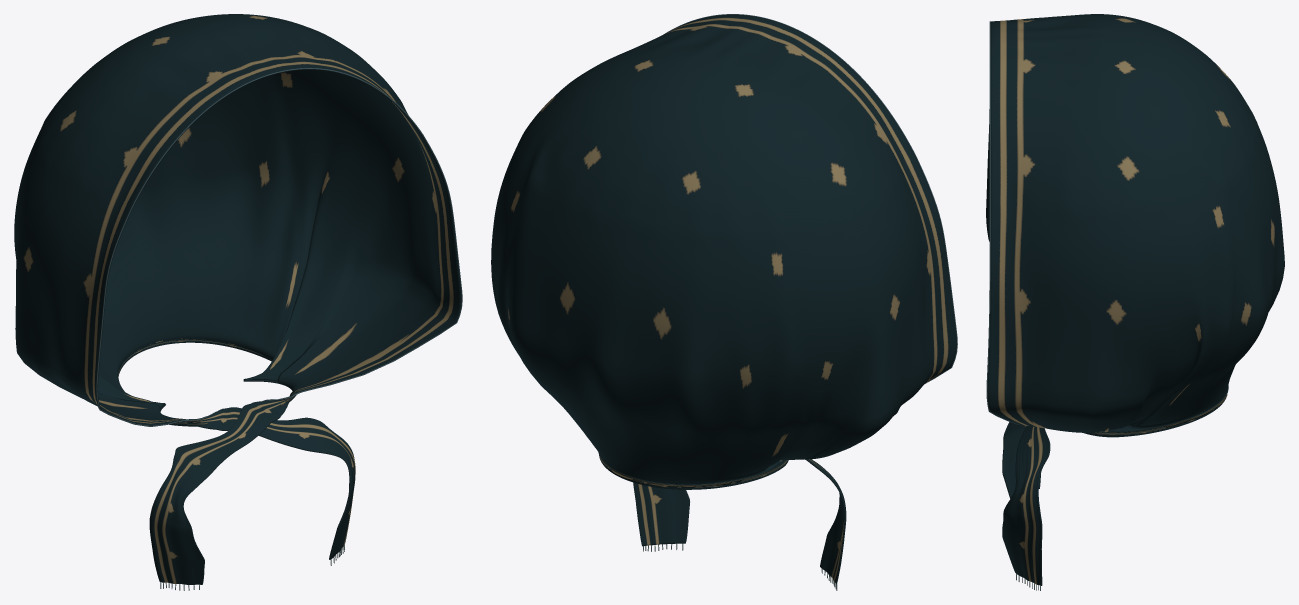
Rendered from Feminine-jersey-gathered-pashmina248-headgear.glb.
3 views of the same model, side by side, from view 1: azimuth 30°, elevation 25°; view 2: azimuth 150°, elevation 25°; view 3: azimuth 270°, elevation 25° (orthographic). The views are drawn at different scales.
Parts seen in each view (by area): view 1: 226 headgear / Headwear / continuous woven pashmina239, 226 headgear / Headwear / face edge239; view 2: 226 headgear / Headwear / continuous woven pashmina239, 226 headgear / Headwear / face edge239; view 3: 226 headgear / Headwear / continuous woven pashmina239, 226 headgear / Headwear / face edge239.
Boxes of the visible parts, x1,y1,x2,y2 form: 226 headgear / Headwear / continuous woven pashmina239: [14, 14, 461, 584]; 226 headgear / Headwear / face edge239: [96, 68, 462, 426]; 226 headgear / Headwear / continuous woven pashmina239: [491, 14, 956, 584]; 226 headgear / Headwear / face edge239: [665, 14, 957, 383]; 226 headgear / Headwear / continuous woven pashmina239: [986, 14, 1284, 585]; 226 headgear / Headwear / face edge239: [986, 21, 1027, 425].
Bounding box in the file's own units: 1.02 × 1.35 × 0.7112.
Materials: 3 (1 with a texture image).
